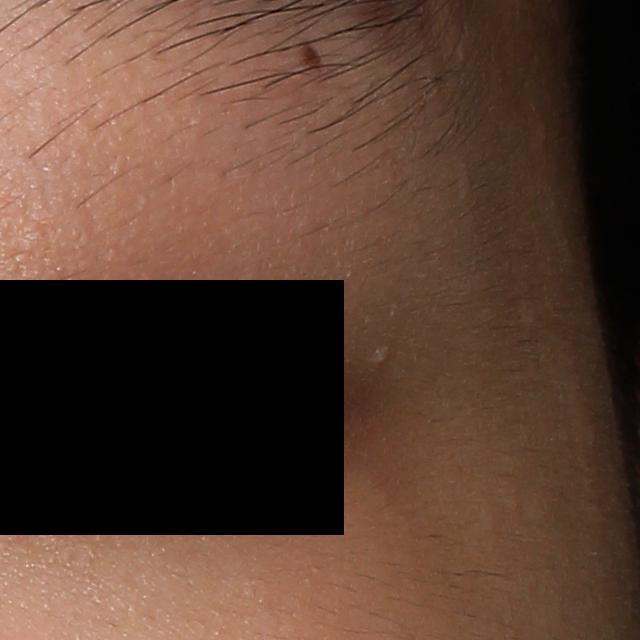nevus: (299, 37, 326, 74)
